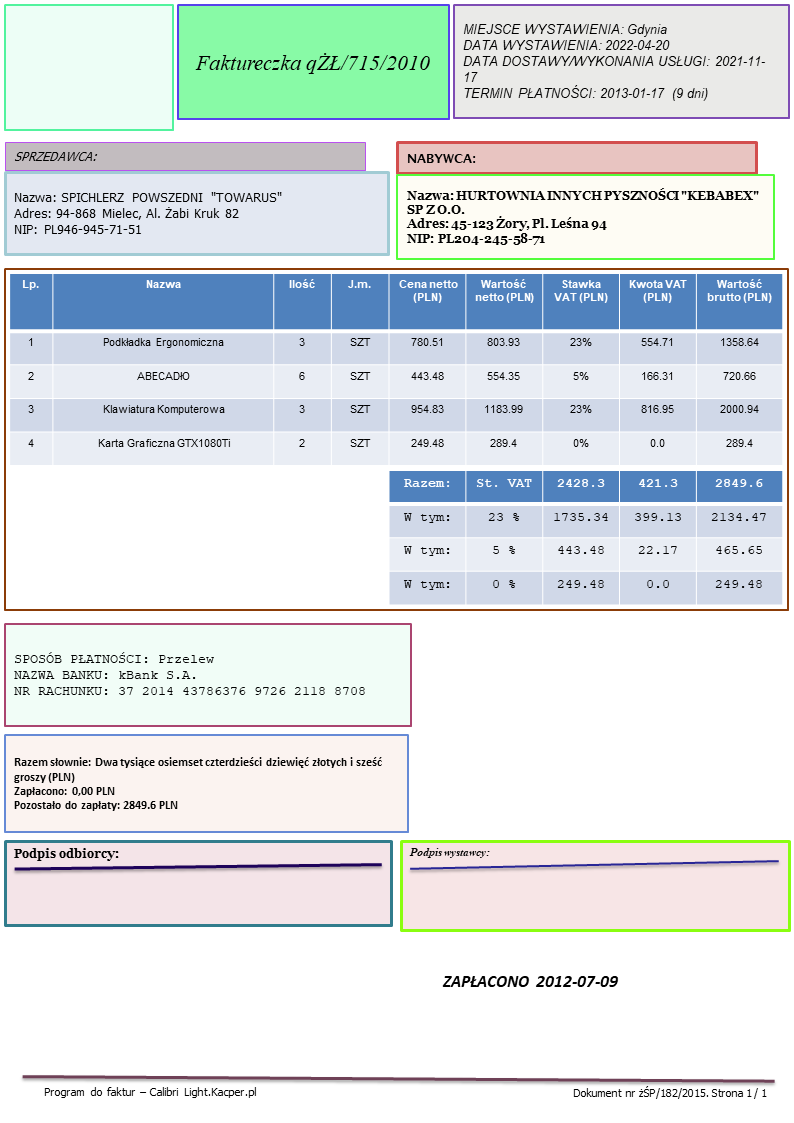Table: (8, 270, 781, 467), (388, 468, 784, 607)
TextBox: (461, 19, 767, 106), (11, 752, 384, 814), (403, 186, 764, 247), (11, 649, 368, 701), (10, 185, 285, 240), (190, 49, 432, 76), (40, 1082, 258, 1102), (440, 970, 621, 991), (571, 1083, 770, 1102), (10, 842, 120, 864), (406, 841, 490, 860), (12, 146, 97, 164), (403, 149, 476, 168)
